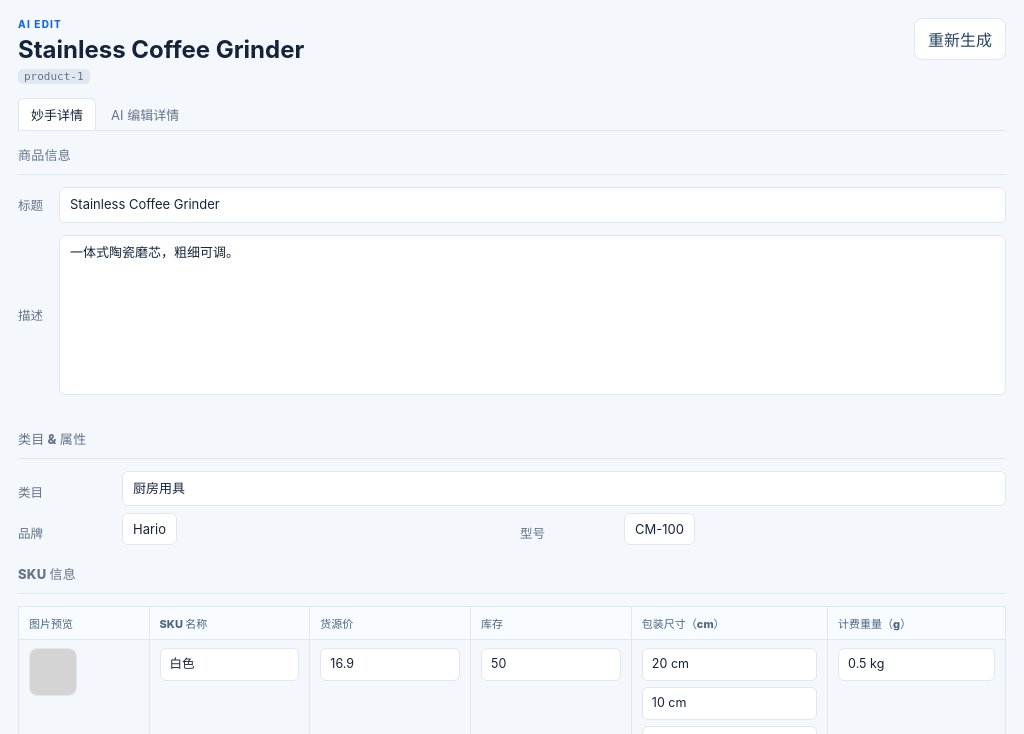
Test: EditPanel › switches between the Miaoshou detail and the AI draft views
Expected: the text "Hario" is shown, top-left (122, 513), bottom-right (177, 545)
Expected: the text "CM-100" is shown, top-left (624, 513), bottom-right (695, 545)
Click the tab "AI 编辑详情". click: (145, 114)
box: top-left (98, 98), bottom-right (192, 130)
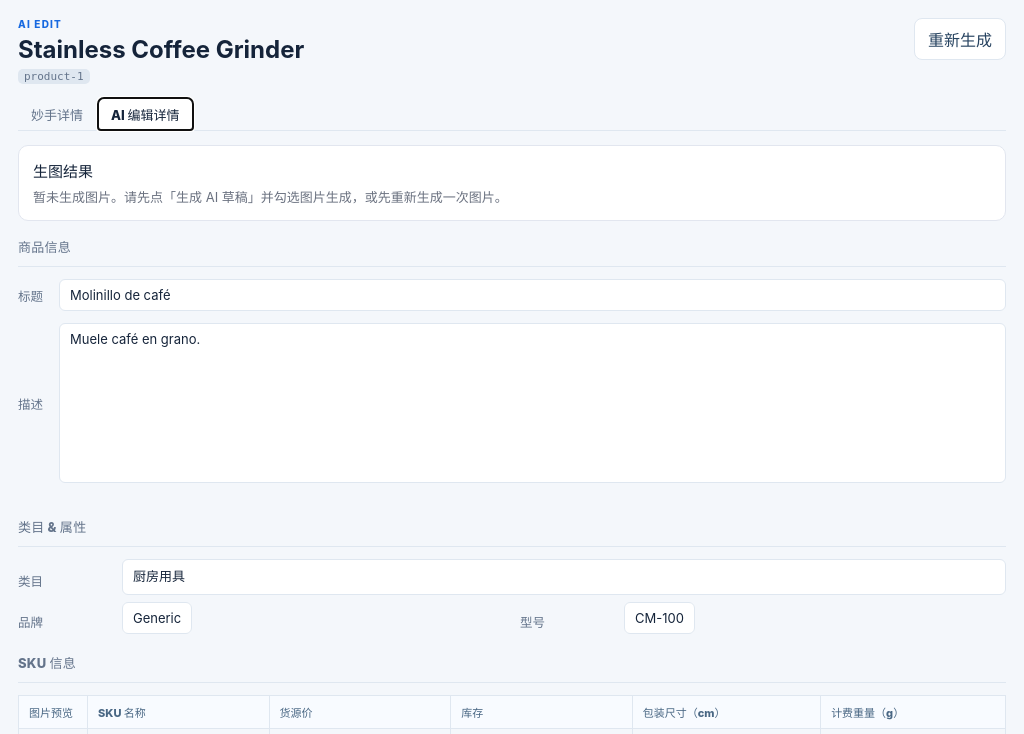
Now the field labelled "标题" is shown, box top-left (59, 279), bottom-right (1006, 311)
Click the tab "妙手详情". click: (57, 114)
box: top-left (18, 98), bottom-right (96, 130)
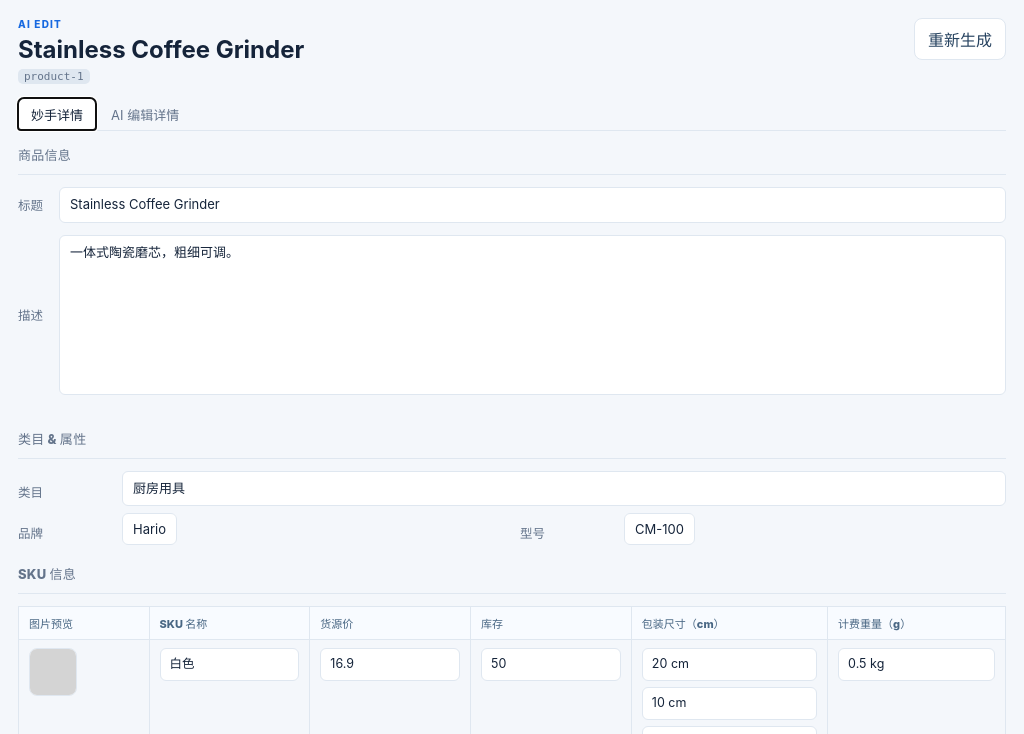
Now the text "Hario" is shown, box top-left (122, 513), bottom-right (177, 545)
